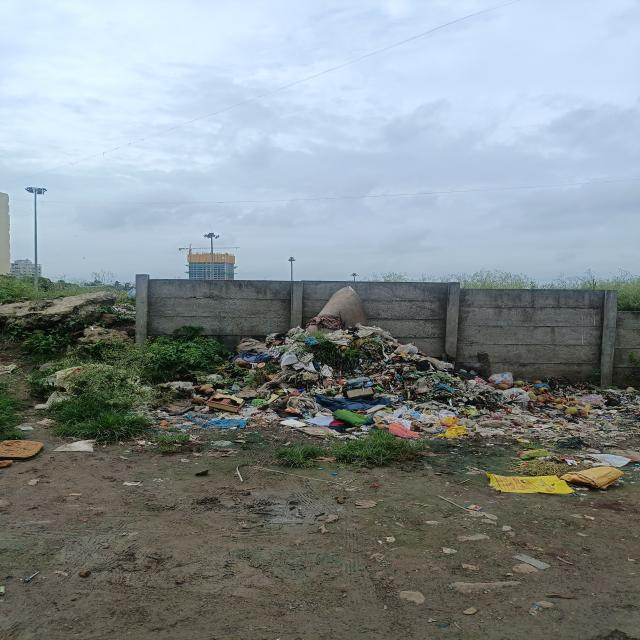garbage: (163, 330, 419, 441), (422, 373, 639, 443)
